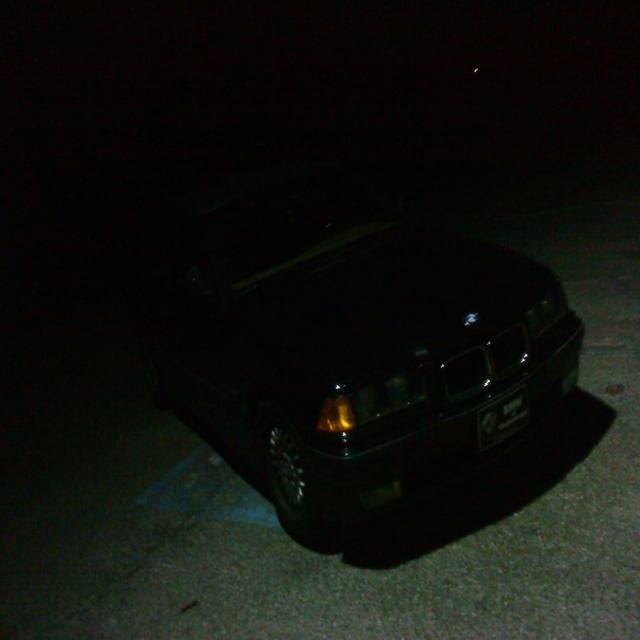Car: (131, 152, 578, 540)
